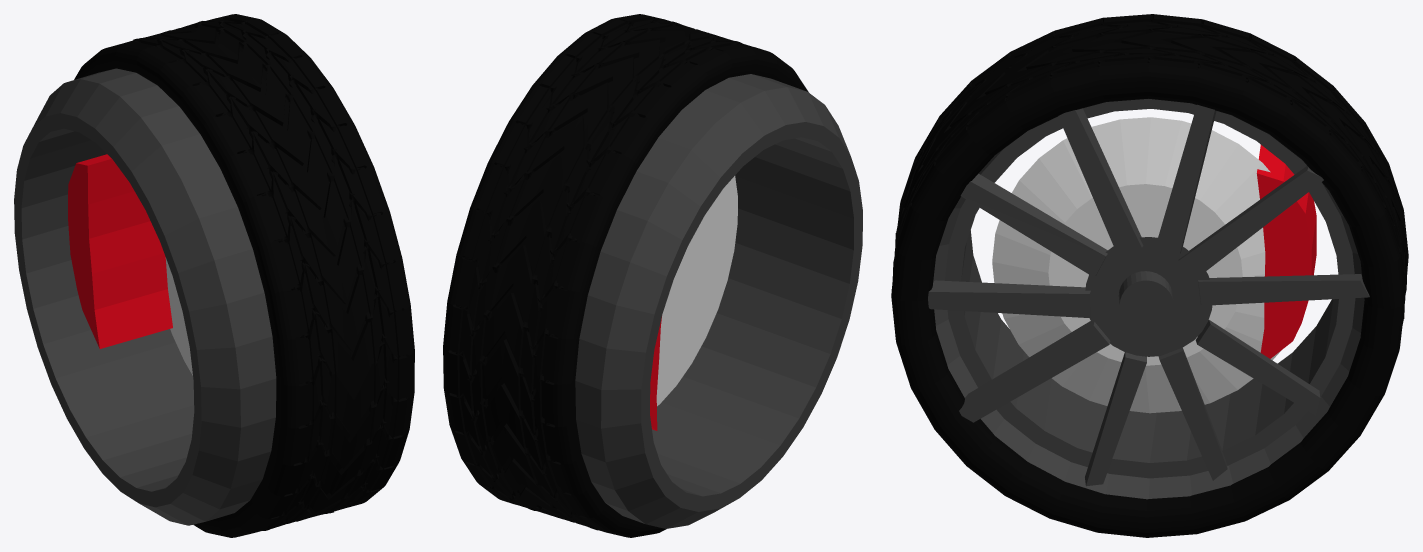
File: llanta_ti.fbx
The picture shows the model from 3 angles, left to right: view 1: azimuth 30°, elevation 25°; view 2: azimuth 150°, elevation 25°; view 3: azimuth 270°, elevation 25°; orthographic projection.
Visible parts, largest first — view 1: Тормозной диск.003; view 2: Тормозной диск.003; view 3: Тормозной диск.003.
Part boxes in pixels (box(x1,y1,x2,y2)): Тормозной диск.003: box(14, 14, 414, 537); Тормозной диск.003: box(443, 14, 862, 537); Тормозной диск.003: box(891, 14, 1408, 537).
Bounding box in the file's own units: 45.2 × 92.88 × 92.65.
